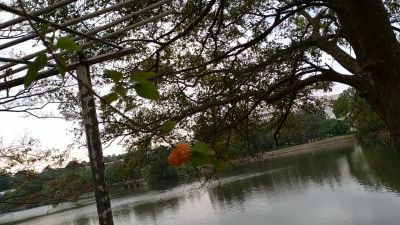eggs: (167, 142, 194, 167)
